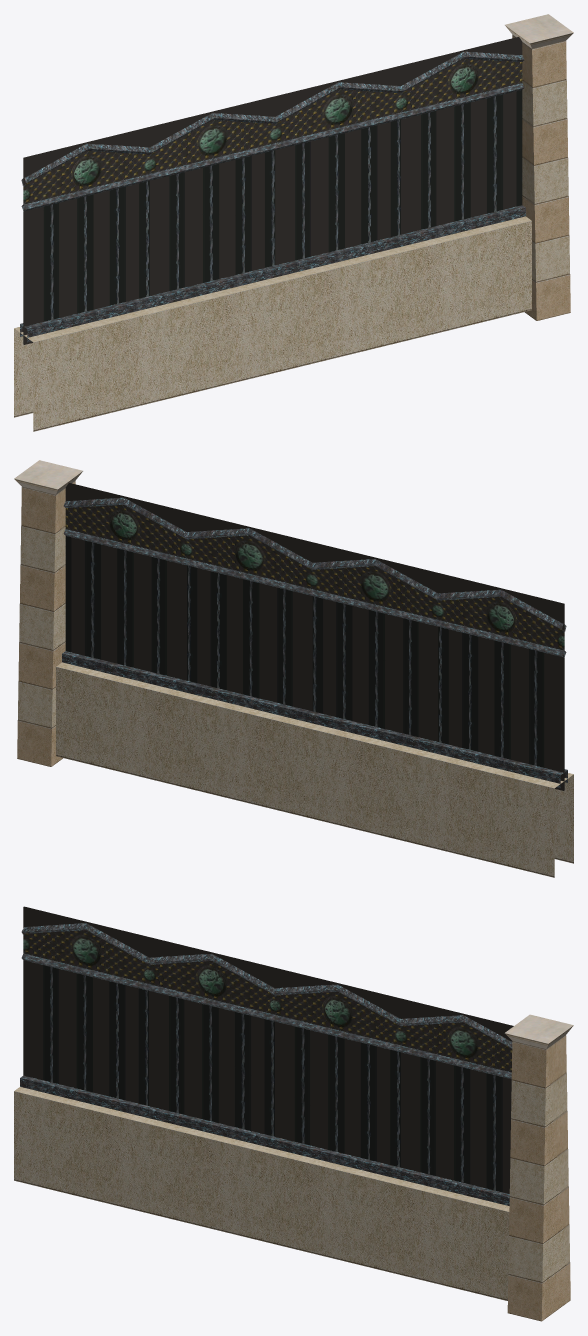
The model's file is thm_nboo_imprv_metal_fence_wall_sml_s01_l1.fbx.
The picture shows the model from 3 angles, top to bottom: view 1: azimuth 30°, elevation 25°; view 2: azimuth 150°, elevation 25°; view 3: azimuth 330°, elevation 25°; orthographic projection.
Visible parts, largest first — view 1: mesh_node; view 2: mesh_node; view 3: mesh_node.
Boxes of the visible parts, left/top/right/bottom form: mesh_node: left=14, top=14, right=573, bottom=431; mesh_node: left=14, top=460, right=573, bottom=877; mesh_node: left=14, top=906, right=573, bottom=1321.
Size of the model in its own units: 3.21 by 1.58 by 0.3.
